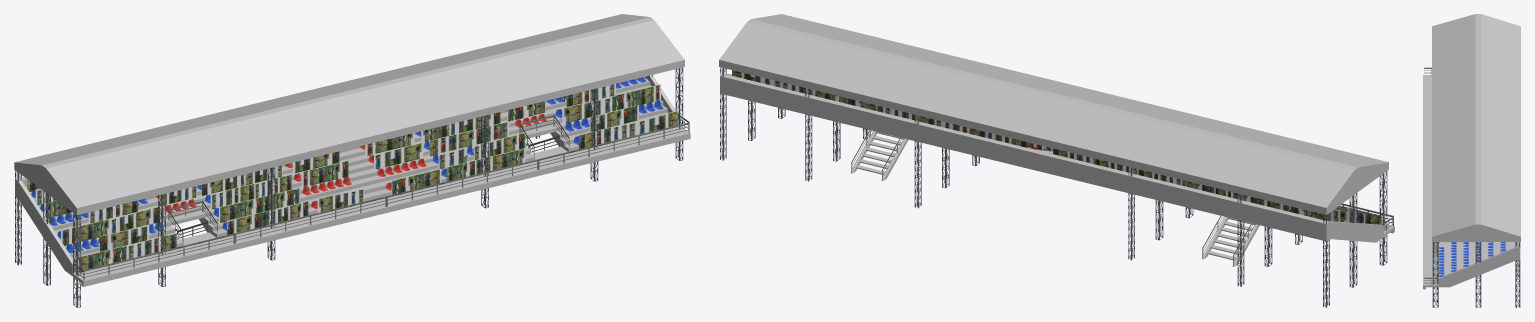
File: Stand-04.fbx
The picture shows the model from 3 angles, left to right: view 1: azimuth 30°, elevation 25°; view 2: azimuth 150°, elevation 25°; view 3: azimuth 270°, elevation 25°; orthographic projection. The views are drawn at different scales.
Parts seen in each view (by area): view 1: Stand-04, Audience; view 2: Stand-04, Audience; view 3: Stand-04.
Part boxes in pixels (x1,y1,x2,y2): Stand-04: (14, 14, 690, 307); Audience: (27, 84, 677, 272); Stand-04: (719, 14, 1394, 307); Audience: (732, 70, 1381, 224); Stand-04: (1423, 14, 1520, 307).
Bounding box in the file's own units: 6994 × 1295 × 1371.
